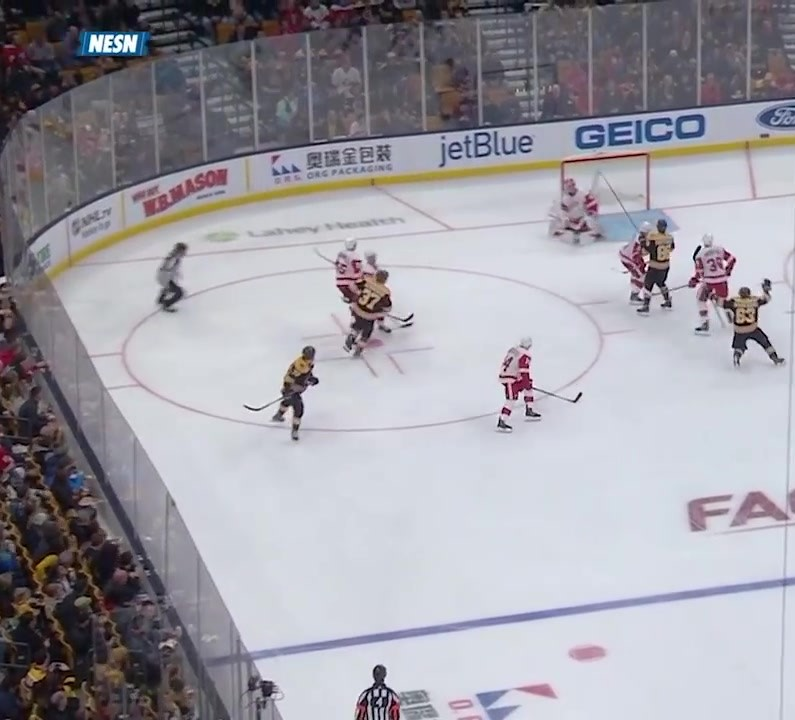Geico: (571, 109, 718, 150)
